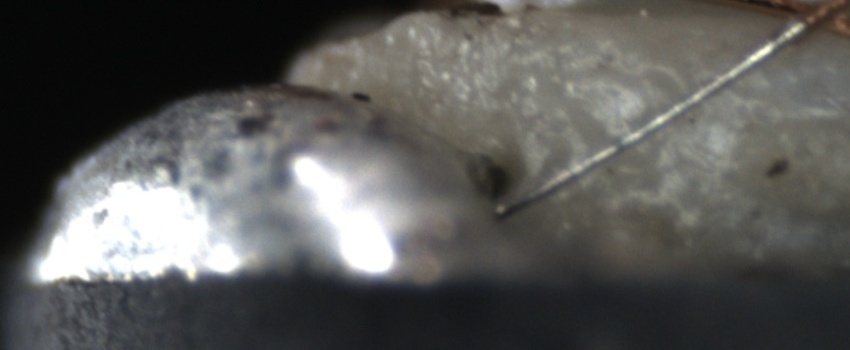CL: (773, 0, 847, 43)
DL: (743, 91, 849, 150)
TS: (494, 20, 809, 217)
